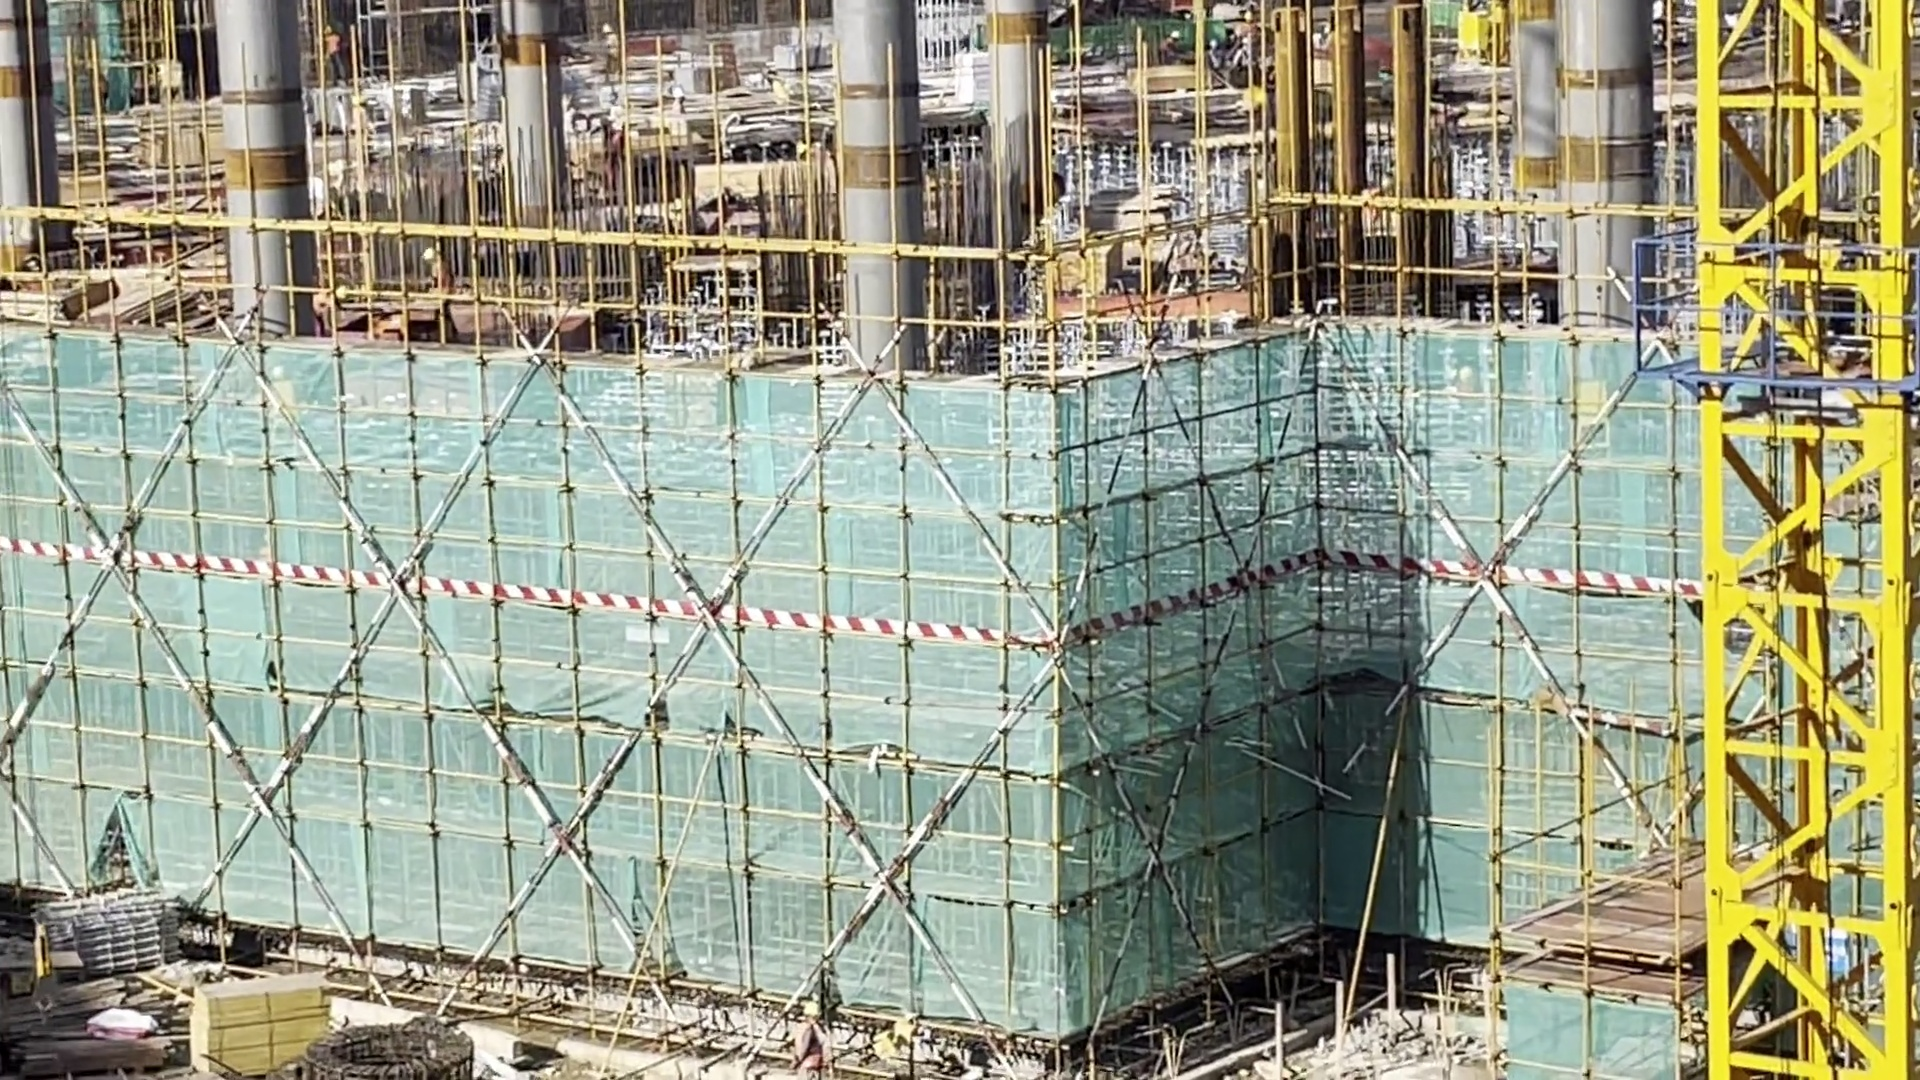board: (192, 981, 322, 1078)
ebox: (1459, 10, 1494, 57)
helmet: (801, 1002, 821, 1016)
person: (423, 247, 454, 322), (793, 1001, 818, 1080), (317, 280, 346, 331), (604, 23, 617, 87)
scaffold: (42, 899, 182, 976)
